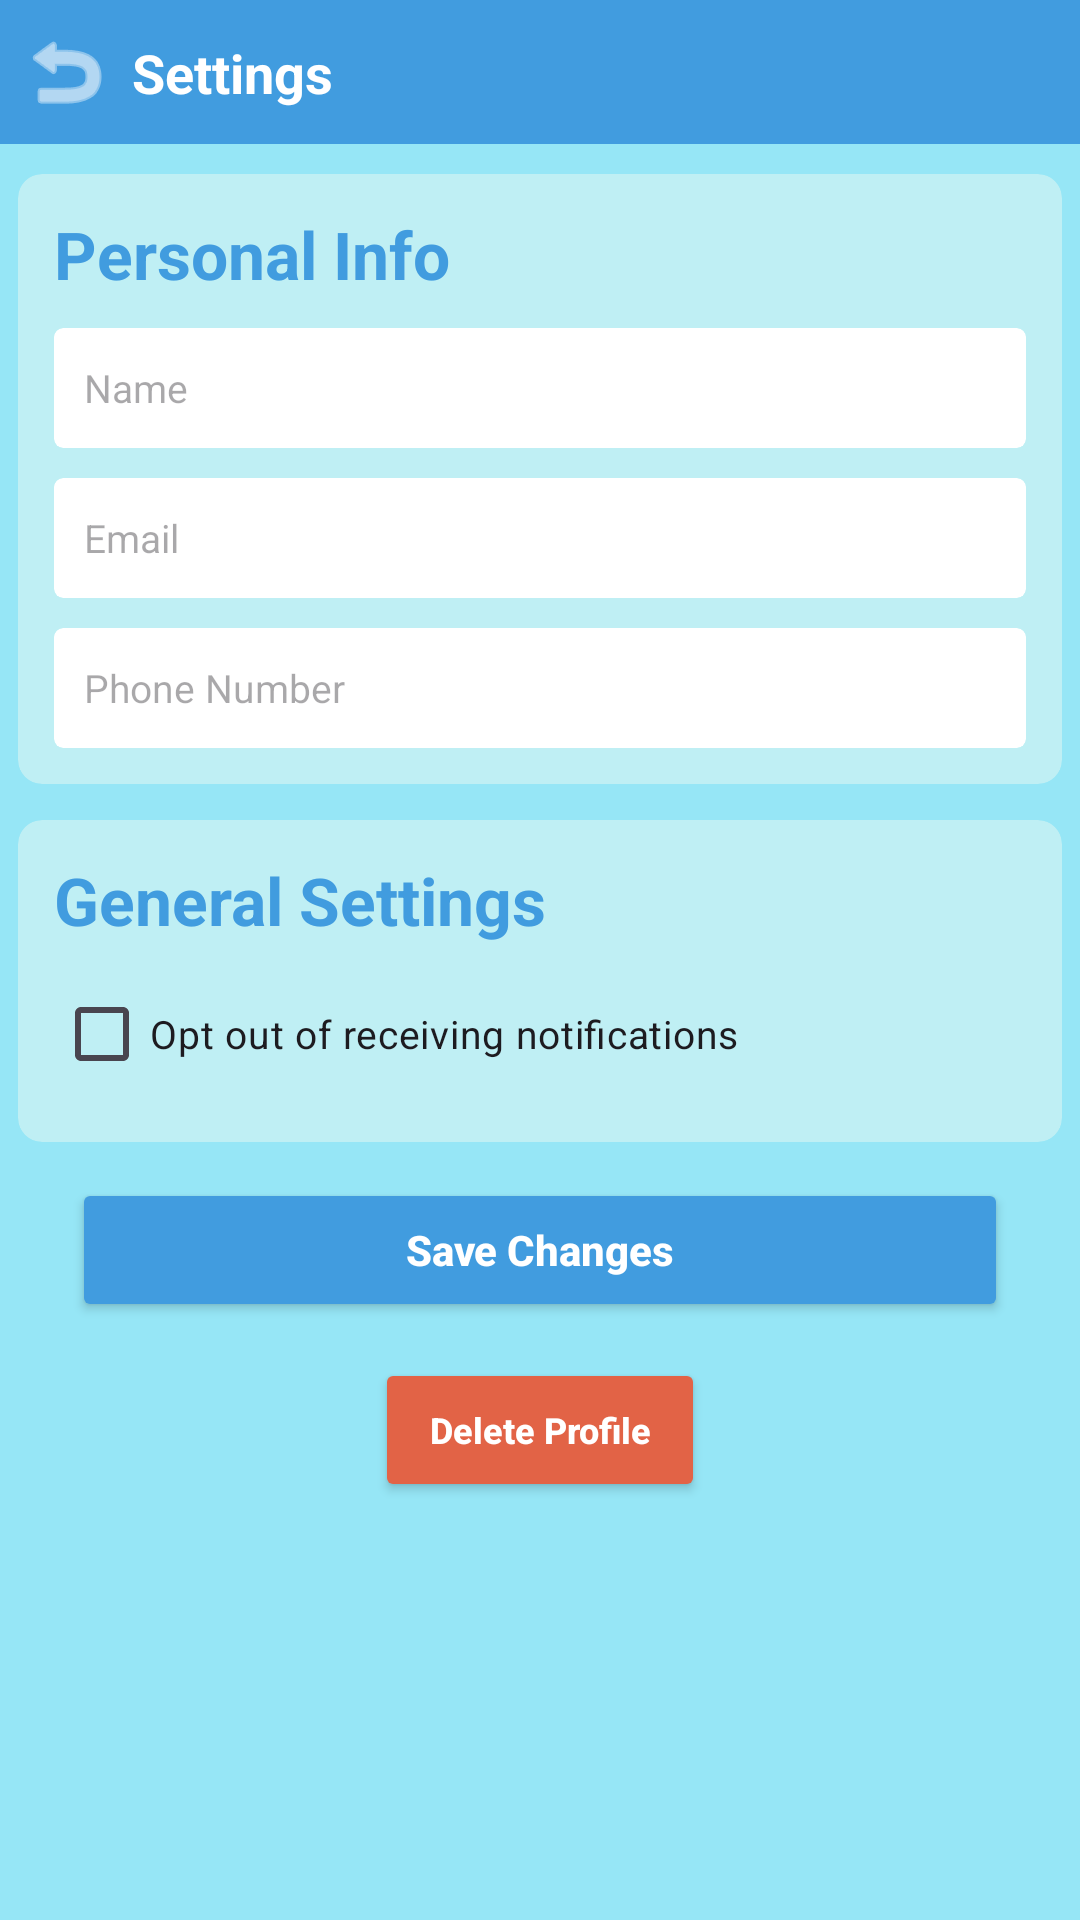

Point at icon controls on the screen. Image size 1080*1920, points as [x,y].
Go Back: [67,72]
